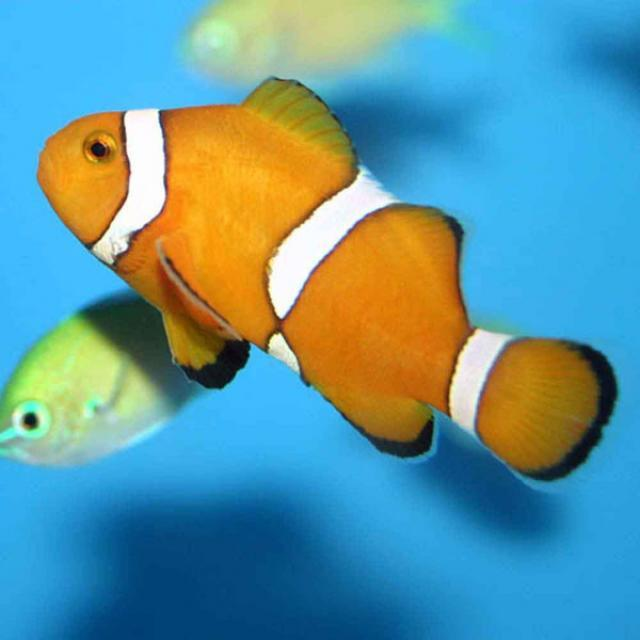ClownFish: (38, 68, 618, 490)
